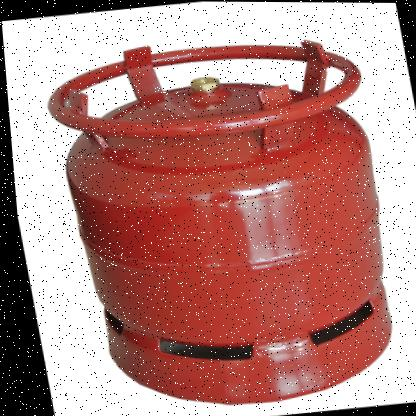gas-tank: (9, 7, 415, 415)
